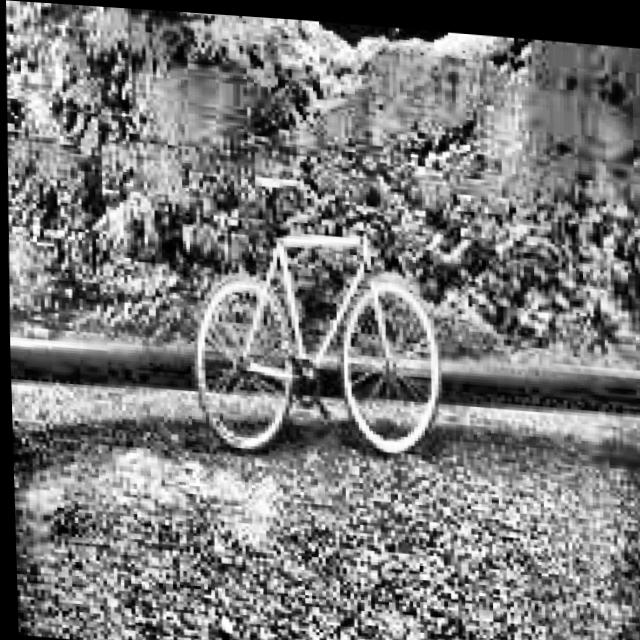motorcycle: (148, 151, 469, 483)
